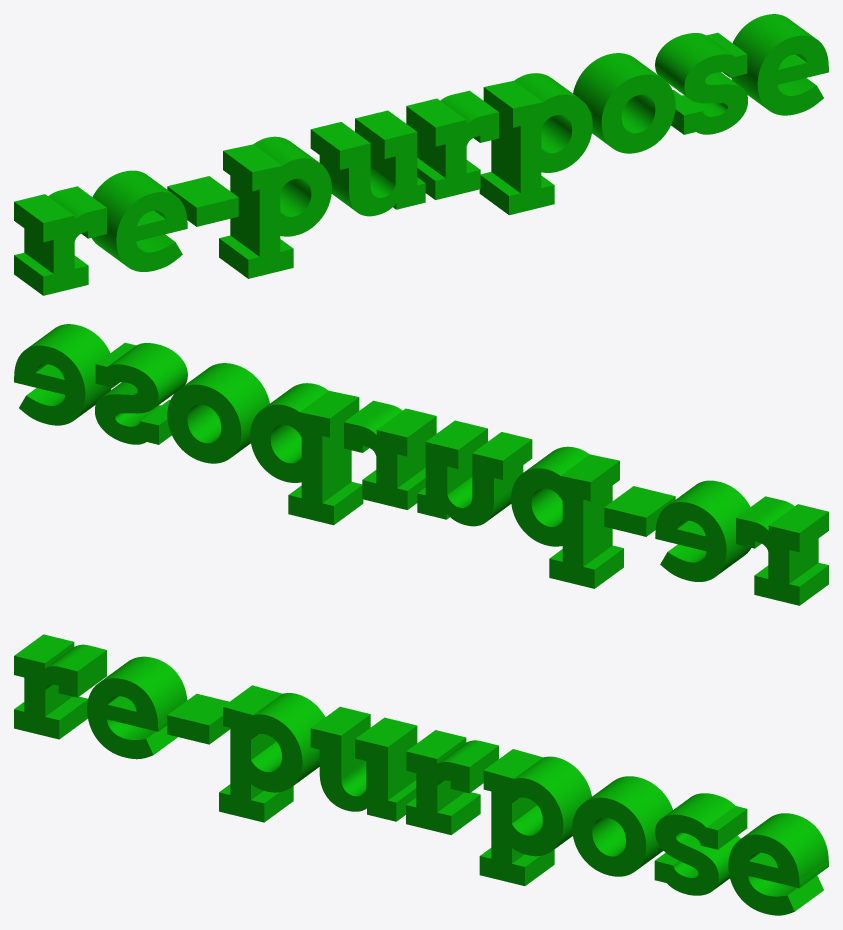
Rendered from REPURPOSE.fbx.
The picture shows the model from 3 angles, top to bottom: view 1: azimuth 30°, elevation 25°; view 2: azimuth 150°, elevation 25°; view 3: azimuth 330°, elevation 25°; orthographic projection.
Visible parts, largest first — view 1: AR WORDS; view 2: AR WORDS; view 3: AR WORDS.
Boxes of the visible parts, x1,y1,x2,y2 form: AR WORDS: [14, 14, 828, 295]; AR WORDS: [14, 324, 828, 605]; AR WORDS: [14, 634, 828, 915].
Bounding box in the file's own units: 3.62 × 0.2346 × 0.4823.
